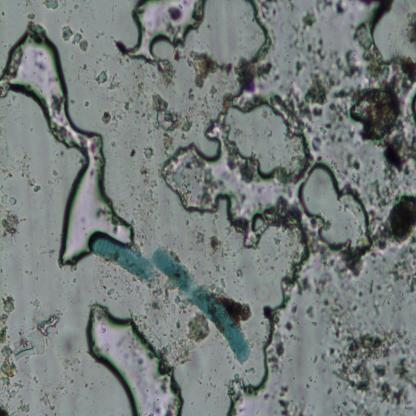Air bubble: (0, 23, 139, 266), (161, 115, 316, 247), (230, 263, 306, 412), (84, 302, 184, 414), (298, 159, 374, 257), (121, 0, 206, 62)
Background material: (334, 322, 416, 413), (347, 66, 416, 174), (311, 237, 379, 330), (281, 27, 349, 84), (372, 196, 416, 259), (35, 352, 78, 416), (345, 23, 389, 81), (111, 70, 155, 128), (137, 286, 182, 340), (14, 311, 60, 361), (153, 86, 192, 138), (272, 82, 312, 130), (133, 162, 162, 224), (330, 148, 368, 195), (264, 189, 305, 231), (188, 50, 232, 86), (328, 91, 355, 145), (186, 72, 218, 117), (389, 244, 416, 295), (197, 149, 217, 208), (237, 59, 275, 88), (301, 70, 330, 108), (156, 336, 192, 366), (226, 151, 256, 182), (60, 24, 90, 53), (186, 312, 211, 344), (269, 231, 293, 262), (257, 2, 282, 31), (0, 211, 22, 243), (277, 387, 303, 414), (0, 346, 17, 386), (100, 274, 121, 304), (269, 343, 285, 374), (157, 59, 175, 86), (315, 1, 347, 16), (404, 9, 416, 47), (308, 349, 338, 363), (34, 243, 58, 260), (102, 110, 122, 129), (8, 377, 24, 400), (162, 132, 176, 158), (295, 275, 314, 294), (22, 264, 38, 285), (302, 10, 318, 31), (0, 294, 16, 314), (16, 155, 32, 175), (0, 311, 8, 345), (210, 235, 221, 258), (141, 144, 156, 160), (27, 177, 42, 193), (0, 193, 17, 206), (95, 69, 109, 84), (193, 230, 205, 247), (22, 8, 37, 21), (313, 134, 323, 153), (18, 399, 30, 414), (44, 1, 60, 12), (0, 402, 12, 415), (28, 299, 41, 310), (284, 1, 296, 12), (51, 166, 62, 178), (129, 145, 138, 158), (284, 320, 293, 333), (325, 386, 333, 398), (82, 99, 90, 108)
